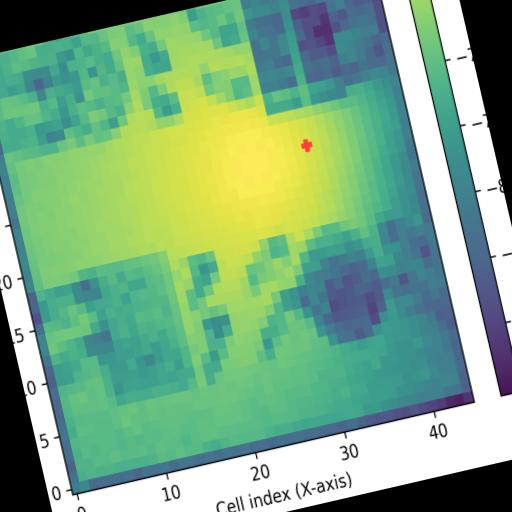Concrete: (239, 0, 348, 115)
Glass: (9, 26, 139, 159)
Metal: (284, 214, 392, 350)
Wood: (78, 249, 199, 410)
